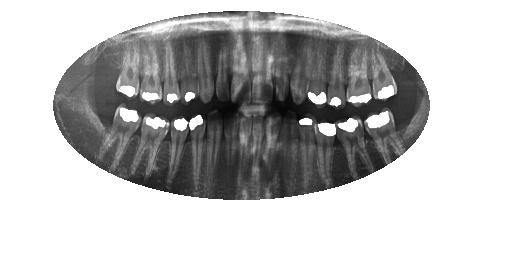i1: (394, 108, 424, 144)
i10decay: (221, 112, 241, 207)
i11decay: (203, 111, 221, 207)
i12healthy: (186, 113, 207, 209)
i13healthy: (166, 114, 191, 203)
i14healthy: (127, 108, 170, 191)
i15healthy: (94, 100, 141, 184)
i16loss: (82, 106, 112, 146)
i2: (362, 105, 408, 174)
i3: (331, 115, 378, 182)
i4: (310, 116, 342, 191)
i5: (296, 113, 324, 199)
i6decay: (278, 112, 305, 201)
i7: (264, 112, 281, 203)
i8: (251, 114, 271, 212)
i9: (237, 111, 253, 205)
u10decay: (213, 36, 229, 104)
u11healthy: (194, 36, 214, 109)
u12healthy: (173, 38, 199, 108)
u13healthy: (161, 39, 182, 106)
u14healthy: (138, 38, 162, 107)
u15healthy: (112, 40, 140, 104)
u16loss: (101, 44, 122, 73)
u1loss: (385, 47, 408, 78)
u2healthy: (369, 50, 400, 103)
u3healthy: (344, 48, 372, 109)
u4healthy: (327, 44, 344, 113)
u5healthy: (308, 43, 331, 112)
u6healthy: (288, 38, 309, 109)
u7healthy: (270, 34, 293, 110)
u8healthy: (245, 30, 275, 109)
u9decay: (226, 31, 252, 111)
